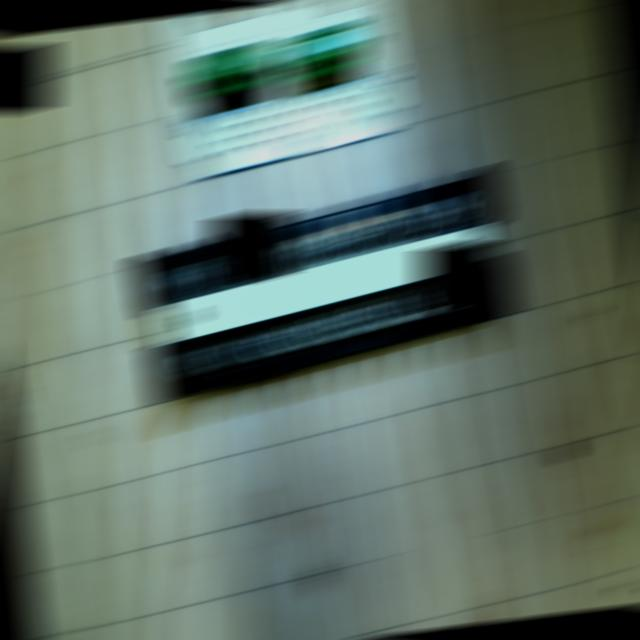Flathead_Block: (121, 167, 528, 400)
Terminal_1: (278, 20, 369, 82), (184, 42, 273, 100)
